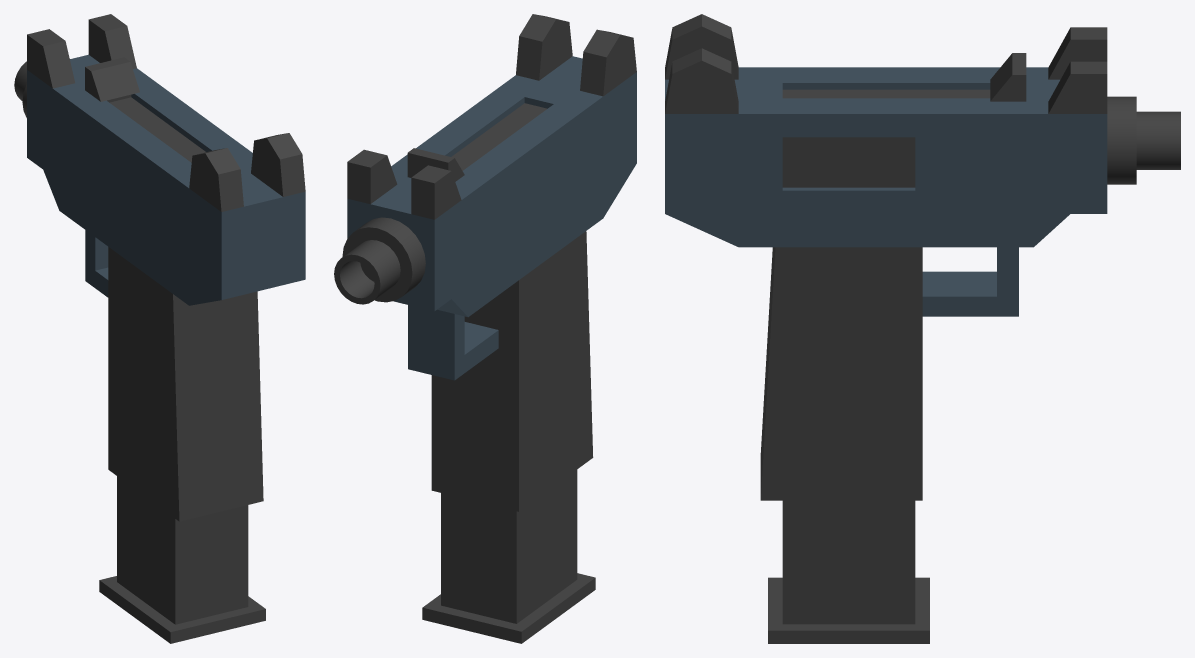
File: uzi.fbx
3 renders of one model, left to right at view 1: azimuth 30°, elevation 25°; view 2: azimuth 150°, elevation 25°; view 3: azimuth 270°, elevation 25°, orthographic. The views are drawn at different scales.
Visible parts, largest first — view 1: Group (×3); view 2: Group (×3); view 3: Group (×3).
Part boxes in pixels (left/top/right/bottom): Group (×3): left=14, top=14, right=305, bottom=643; Group (×3): left=334, top=14, right=636, bottom=643; Group (×3): left=665, top=14, right=1180, bottom=643.
Bounding box in the file's own units: 0.6508 × 3.33 × 2.68.
